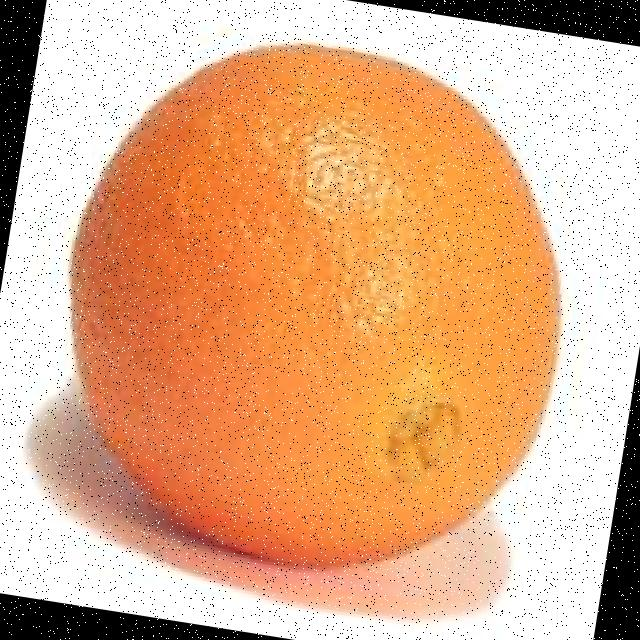orange: (69, 45, 558, 561)
